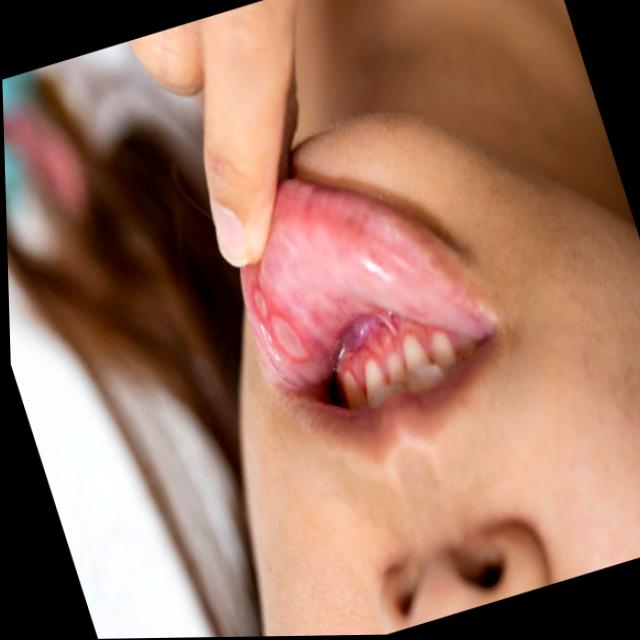ulcer: (250, 290, 312, 368)
